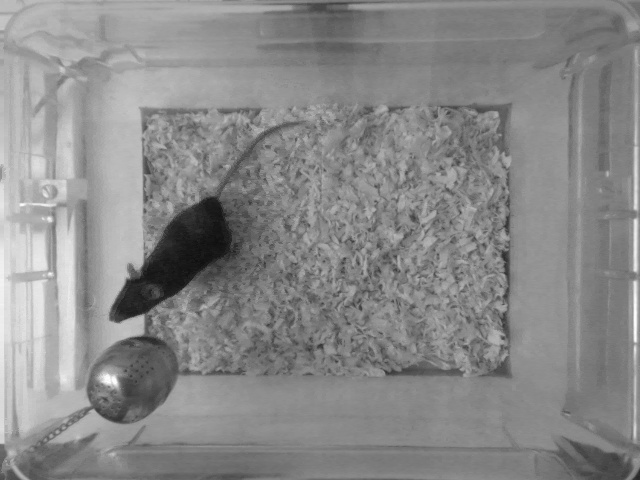mice: (104, 115, 305, 325)
